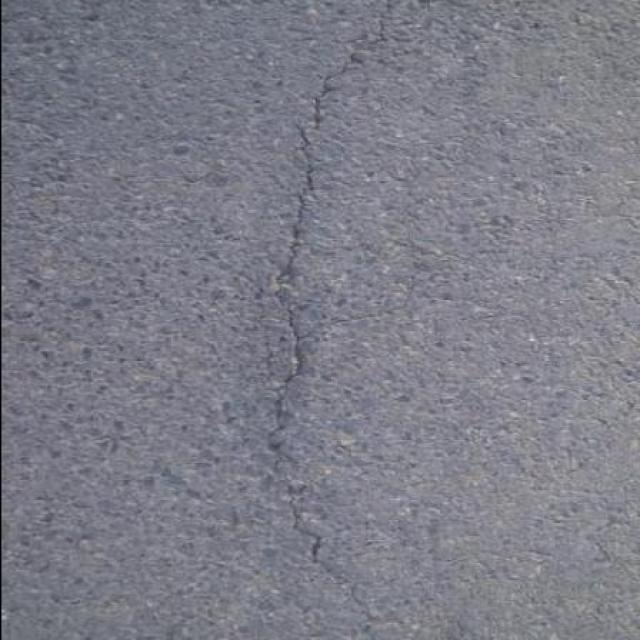Crack: (267, 2, 455, 605)
